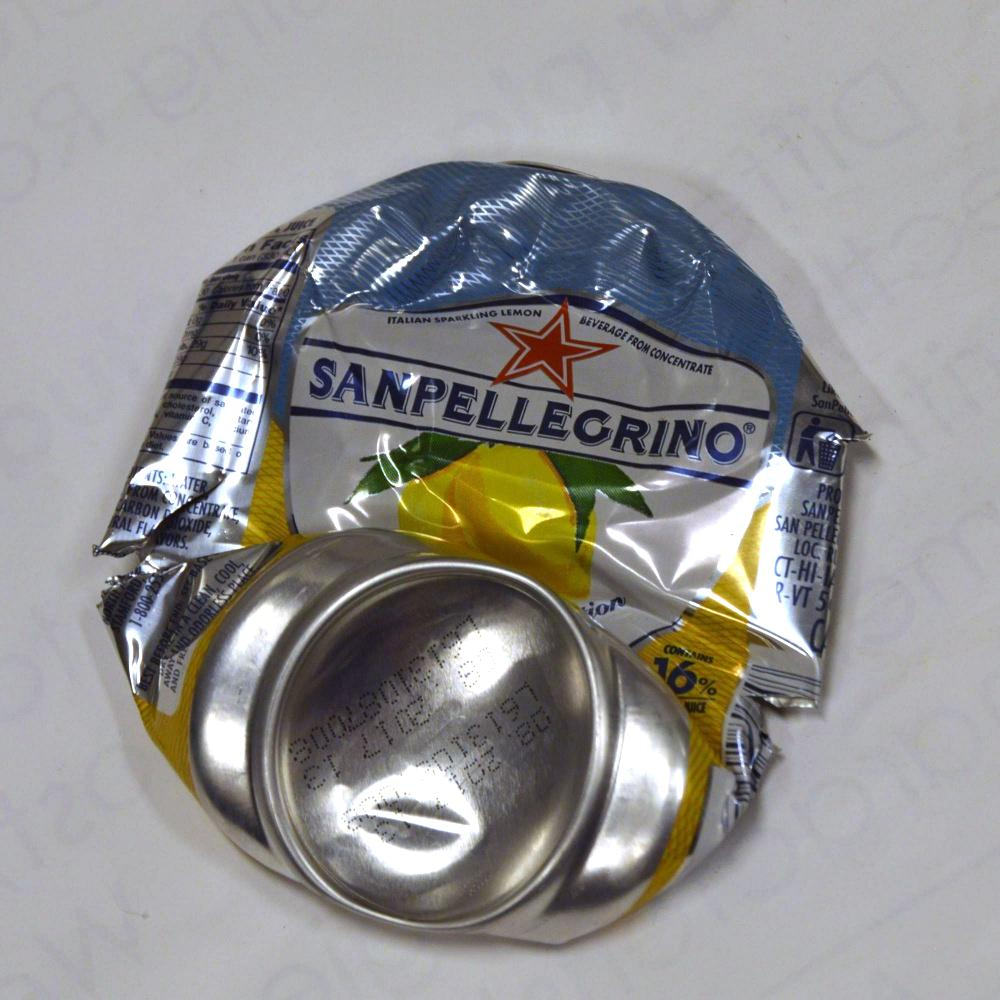Metal: (86, 127, 851, 950)
